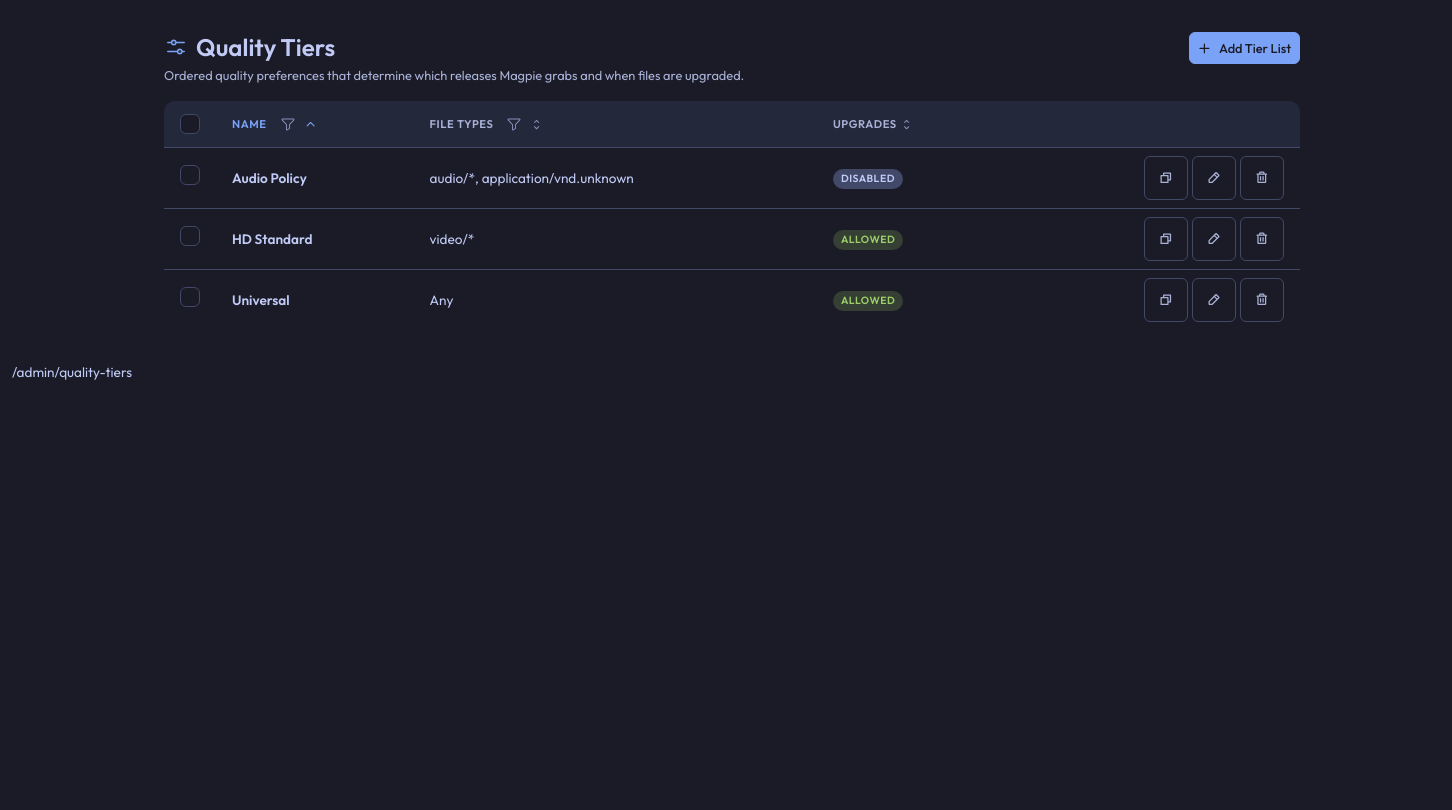
Test case: QualityTiersPage › tells the user that the created list shares its tiers with the original
expect the row "HD Standard video/* Allowed" is shown: met, box [164,209,1300,270]
Click the button named "Clone HD Standard": (1166,239) [1144,217,1188,261]
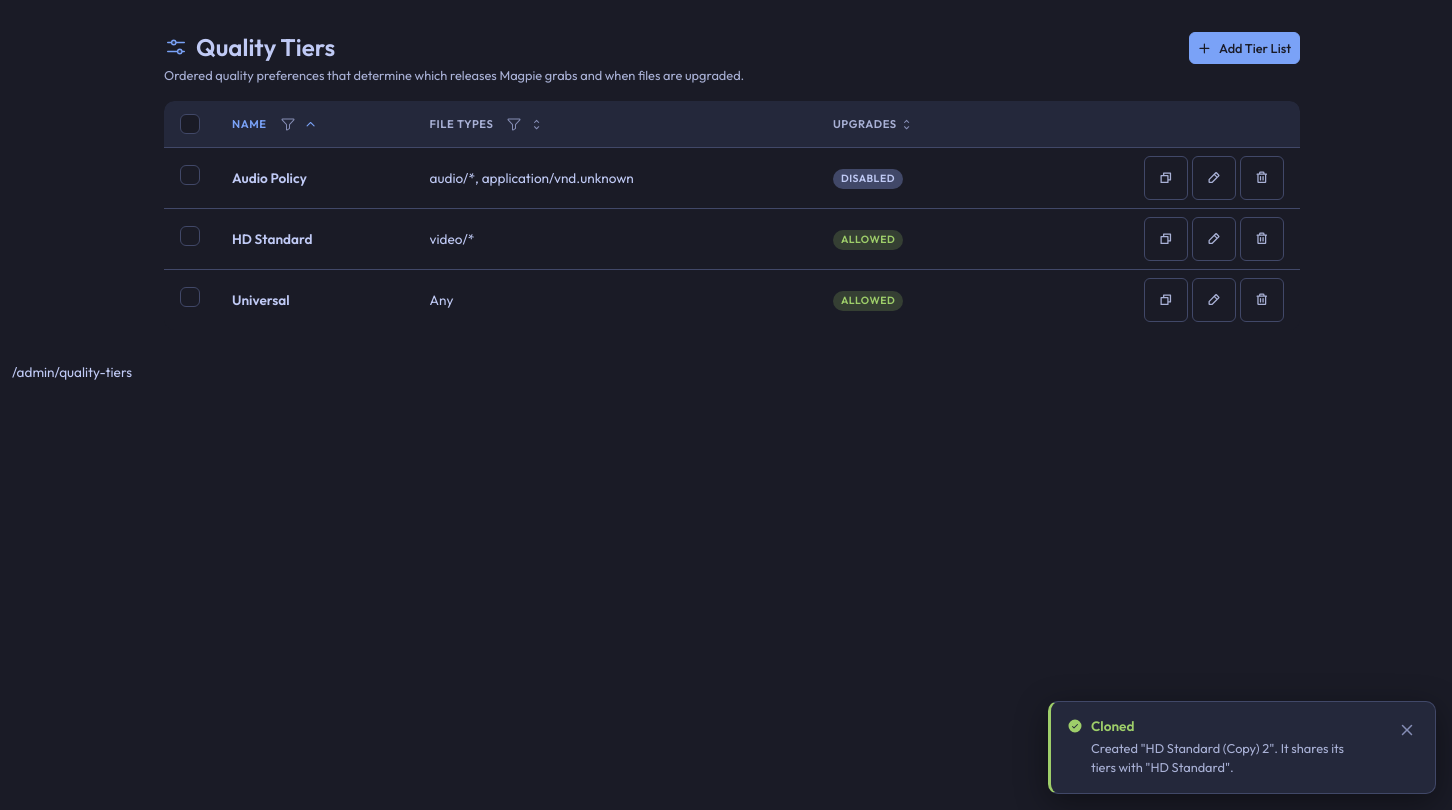
expect the text "Created \"HD Standard (Copy) 2\". It shares its tiers with \"HD Standard\"." is shown: met, box [1091,739,1363,777]
